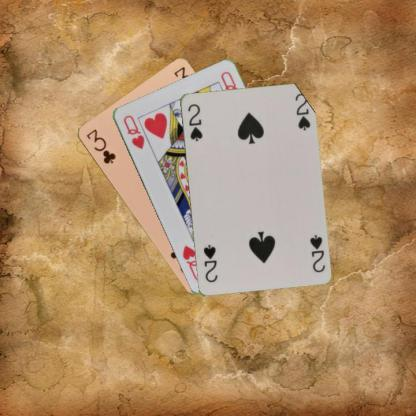2s: (307, 232, 326, 273), (185, 101, 203, 142)
3c: (83, 126, 117, 165)
Qh: (120, 112, 146, 150)
